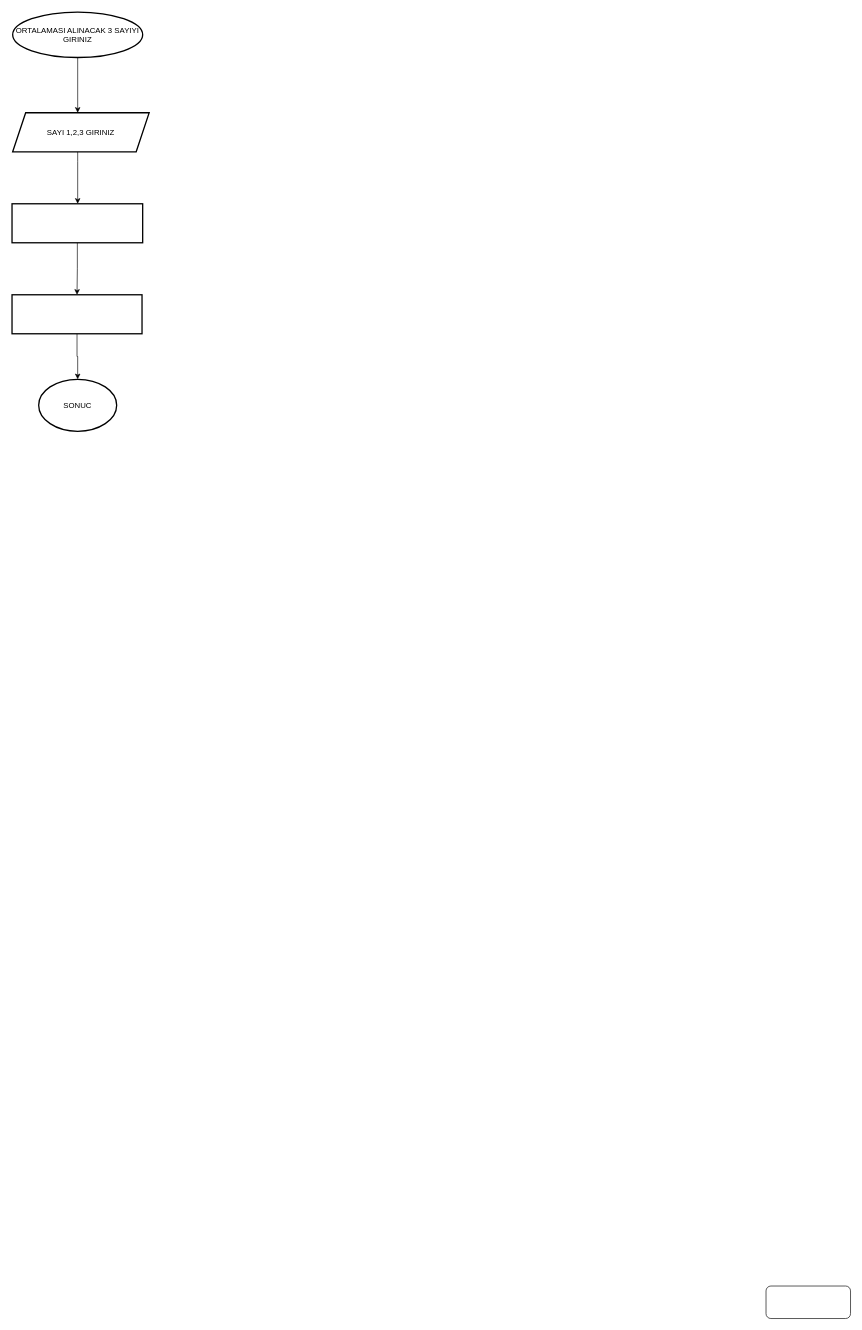
This 862x1330 diagram has some shape labels left out. Each missing label, with the centre of its shape:
SONUC= TOPLAM / 3: point 76,314
TOPLAM=SAYI1+SAYI2+SAYI3: point 77,223
